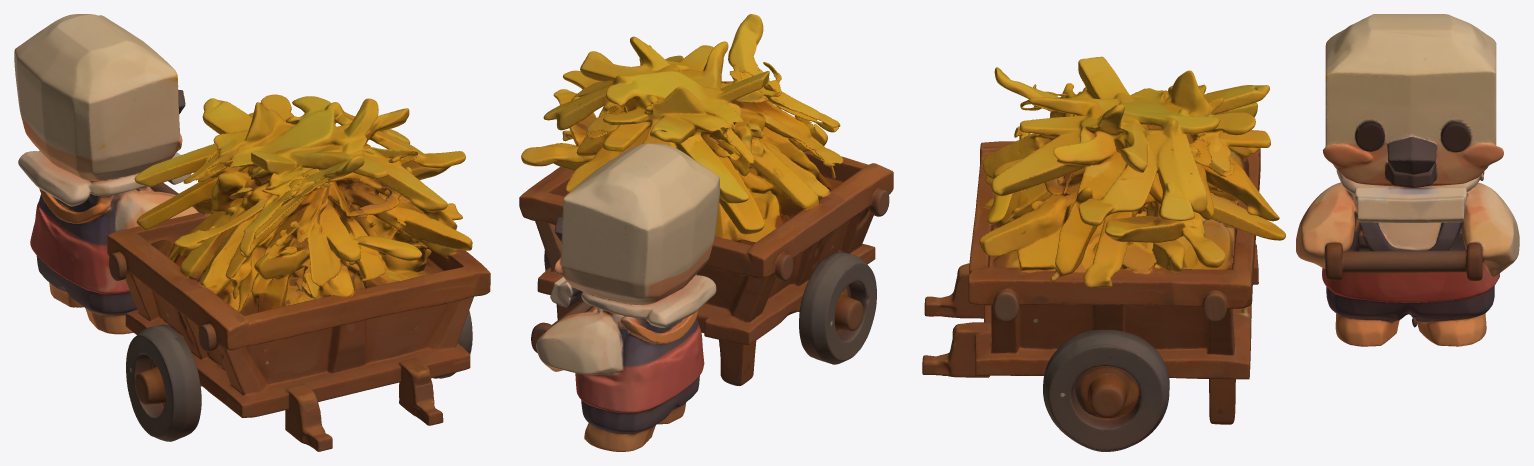
Rendered from wheelbarrow.glb.
The picture shows the model from 3 angles, left to right: view 1: azimuth 30°, elevation 25°; view 2: azimuth 150°, elevation 25°; view 3: azimuth 270°, elevation 25°; orthographic projection. The views are drawn at different scales.
Visible parts, largest first — view 1: tripo_node_bf1435a7-ea0a-4a25-8b0b-78c231c97733; view 2: tripo_node_bf1435a7-ea0a-4a25-8b0b-78c231c97733; view 3: tripo_node_bf1435a7-ea0a-4a25-8b0b-78c231c97733.
Boxes of the visible parts, box(x1,y1,x2,y2) form: tripo_node_bf1435a7-ea0a-4a25-8b0b-78c231c97733: box(14, 14, 490, 451); tripo_node_bf1435a7-ea0a-4a25-8b0b-78c231c97733: box(519, 14, 893, 451); tripo_node_bf1435a7-ea0a-4a25-8b0b-78c231c97733: box(922, 14, 1519, 451).
Size of the model in its own units: 0.6642 by 0.5899 by 1.
Materials: 1 (1 with a texture image).
